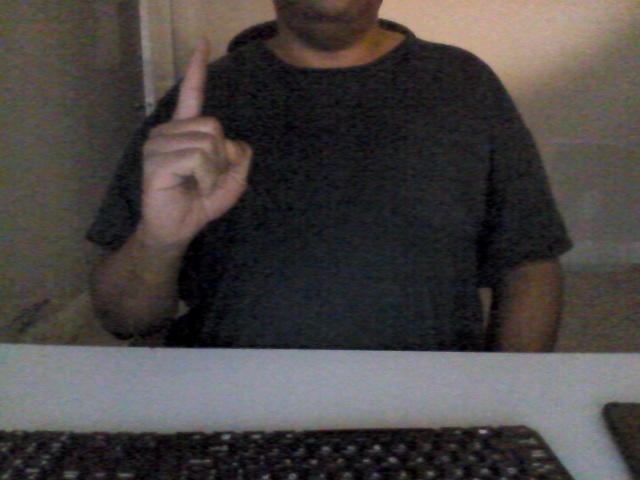up: (134, 31, 255, 245)
